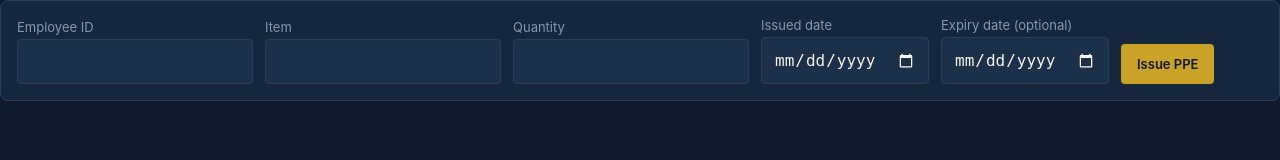
Test: CreatePpeIssuanceForm › clears the form on success
Type "emp-1" into the field labelled "Employee ID". click: (135, 62)
box: [17,39,253,84]
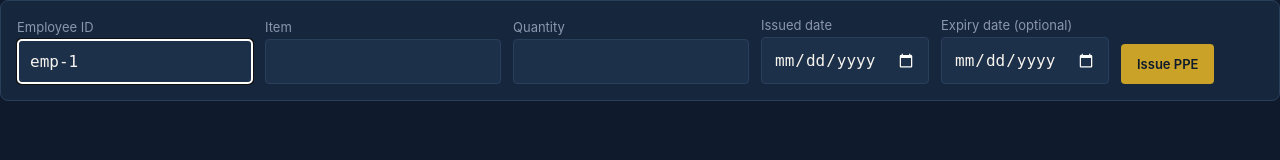
Type "Safety helmet" into the field labelled "Item". click: (383, 62)
box: [265,39,501,84]
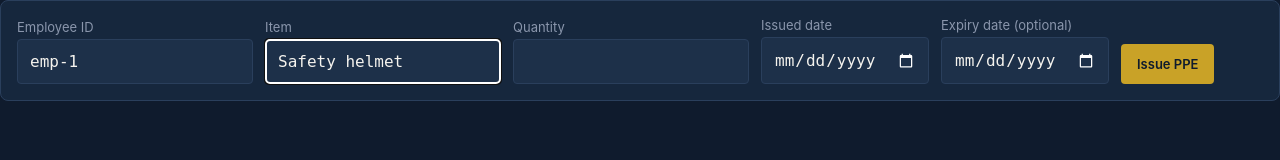
Type "2" into the number field labelled "Quantity". click: (631, 62)
box: [513,39,749,84]
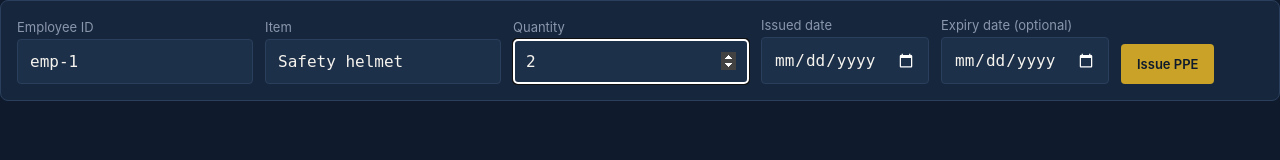
Type "2026-08-01" into the date field labelled "Issued date". click: (845, 60)
box: [761,37,929,84]
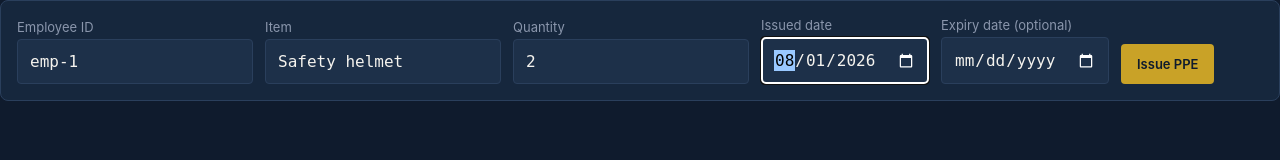
Click the button "Issue PPE". click: click(1168, 64)
box: [1121,44,1214,84]
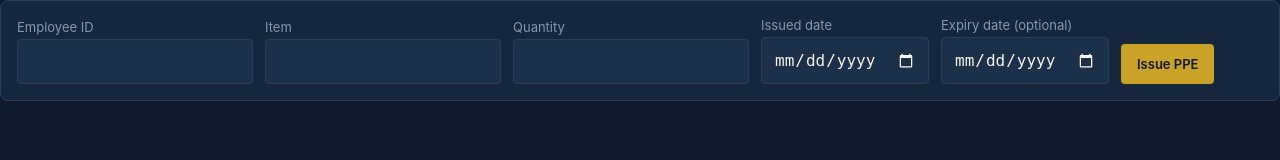
Now the field labelled "Employee ID" is empty, box [17,39,253,84]
Now the field labelled "Item" is empty, box [265,39,501,84]
Now the number field labelled "Quantity" is not empty, box [513,39,749,84]
